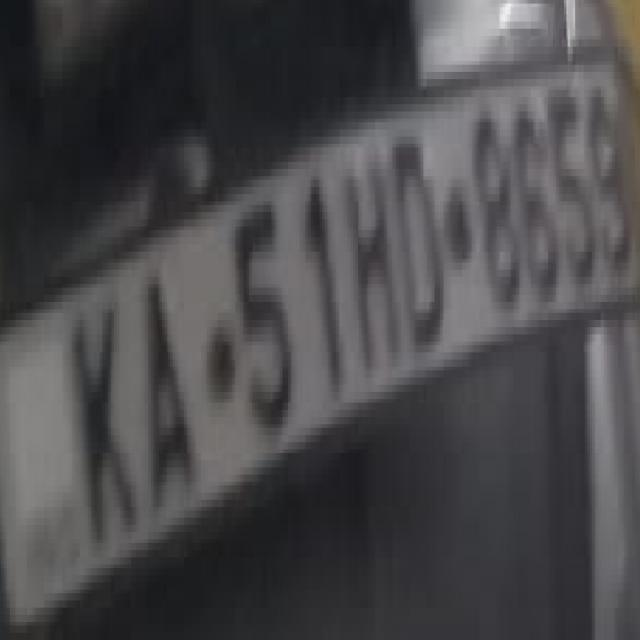1: (290, 145, 356, 416)
5: (222, 170, 309, 470), (546, 61, 602, 320)
6: (508, 66, 566, 319)
8: (466, 81, 525, 325)
9: (580, 55, 639, 293)
A: (127, 251, 209, 525)
D: (387, 98, 458, 376)
H: (336, 117, 409, 398)
K: (65, 278, 140, 566)
